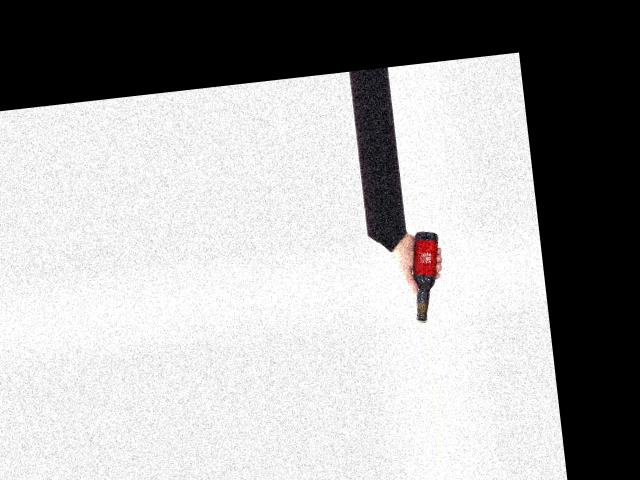beer: (406, 229, 448, 323)
